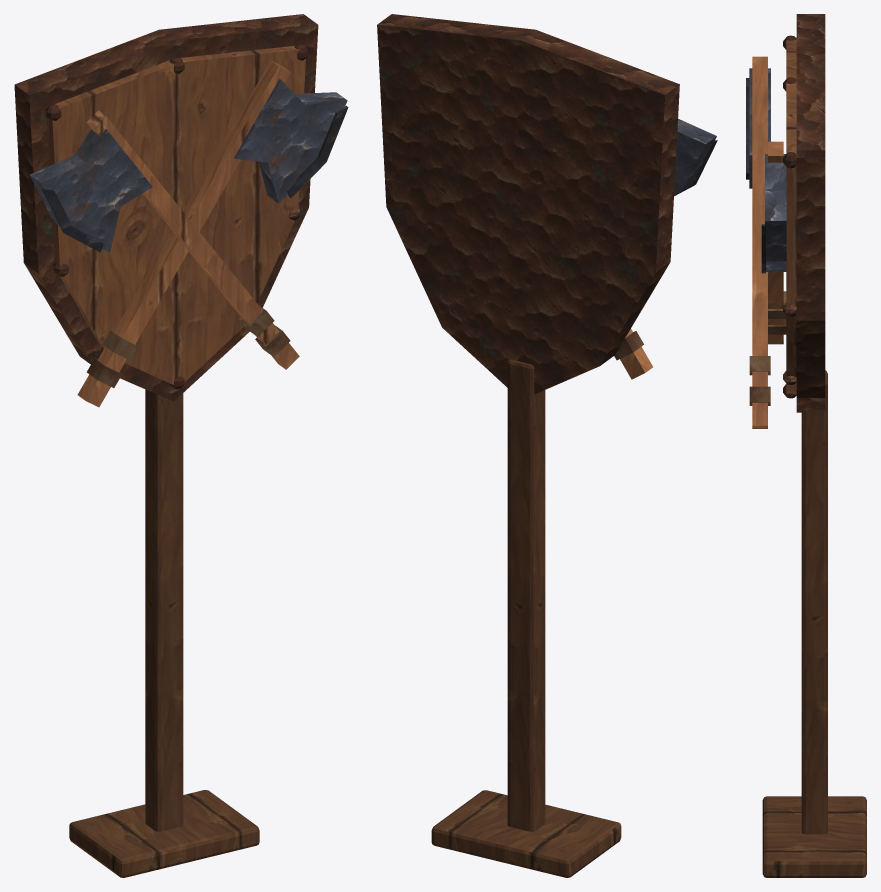
Rendered from crossed_axes.glb.
3 renders of one model, left to right at view 1: azimuth 30°, elevation 25°; view 2: azimuth 150°, elevation 25°; view 3: azimuth 270°, elevation 25°, orthographic. The views are drawn at different scales.
Visible parts, largest first — view 1: model; view 2: model; view 3: model.
Boxes of the visible parts, x1,y1,x2,y2 form: model: (14,14,348,877); model: (377,14,717,877); model: (746,14,866,877).
Bounding box in the file's own units: 0.6751 × 1.66 × 0.232.
7 materials, 7 textured.
